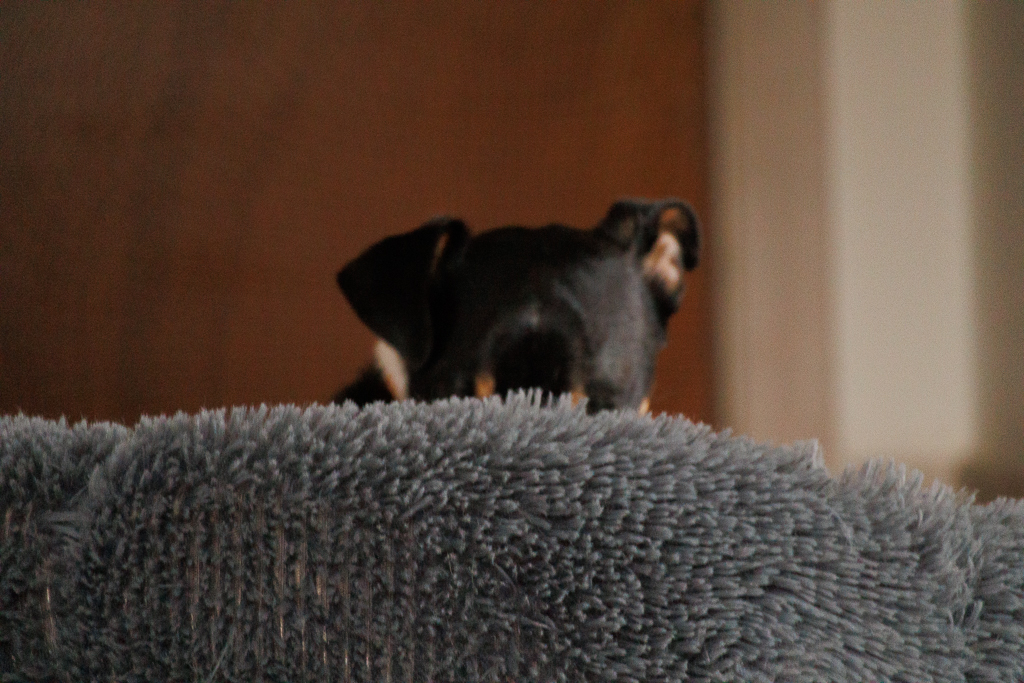Dog: (311, 191, 717, 426)
